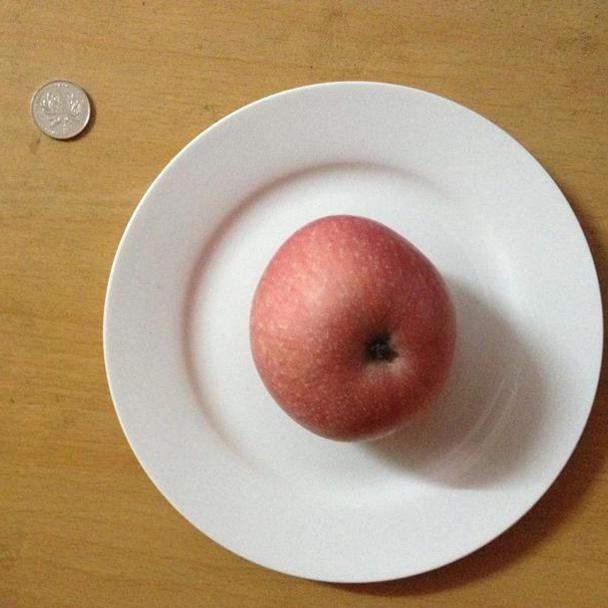apple: (245, 206, 463, 447)
